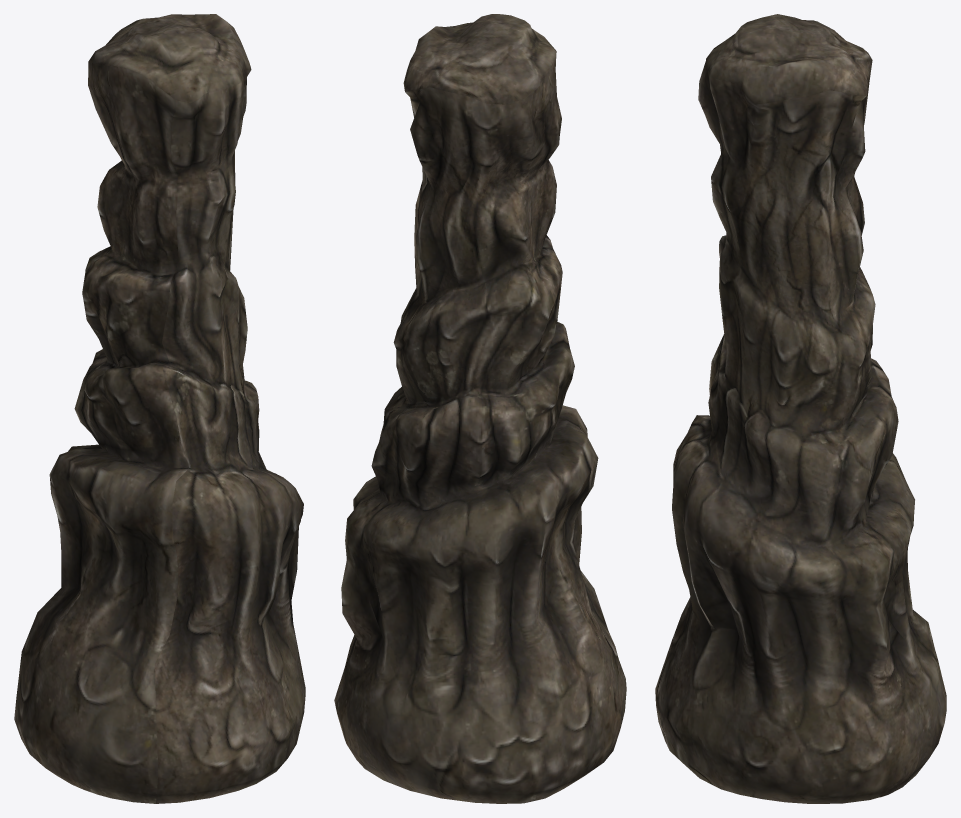
The model's file is stalagmite_collumn_01.dae.
3 renders of one model, left to right at view 1: azimuth 30°, elevation 25°; view 2: azimuth 150°, elevation 25°; view 3: azimuth 270°, elevation 25°, orthographic. The views are drawn at different scales.
Parts seen in each view (by area): view 1: stalagmite_collumn_01__2_; view 2: stalagmite_collumn_01__2_; view 3: stalagmite_collumn_01__2_.
Boxes of the visible parts, x1,y1,x2,y2 form: stalagmite_collumn_01__2_: (14, 14, 305, 803); stalagmite_collumn_01__2_: (334, 14, 626, 803); stalagmite_collumn_01__2_: (655, 14, 946, 803).
Bounding box in the file's own units: 0.757 × 2.12 × 0.7611.
